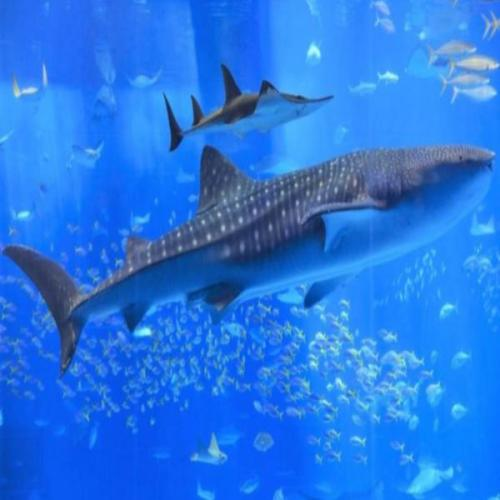shark-endangered: (4, 143, 494, 378), (162, 62, 334, 152)
